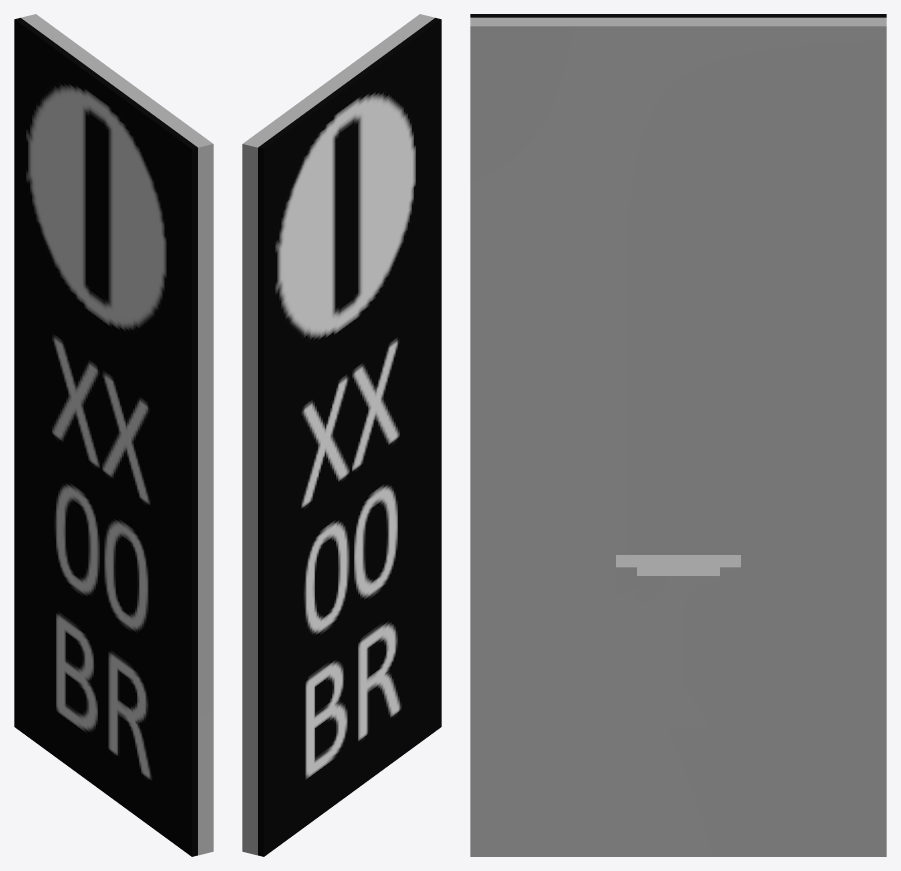
Rendered from banner_repeater_plate_large.obj.
The picture shows the model from 3 angles, left to right: view 1: azimuth 30°, elevation 25°; view 2: azimuth 150°, elevation 25°; view 3: azimuth 270°, elevation 25°; orthographic projection. The views are drawn at different scales.
Parts seen in each view (by area): view 1: cube; view 2: cube; view 3: cube.
Boxes of the visible parts, <box> form: cube: <box>14,14,213,856</box>; cube: <box>242,14,441,856</box>; cube: <box>470,14,886,856</box>.
Size of the model in its own units: 0.0594 by 0.6875 by 0.3125.
2 materials, 2 textured.
